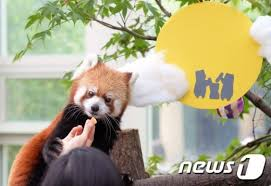redPanda: (64, 57, 141, 126)
